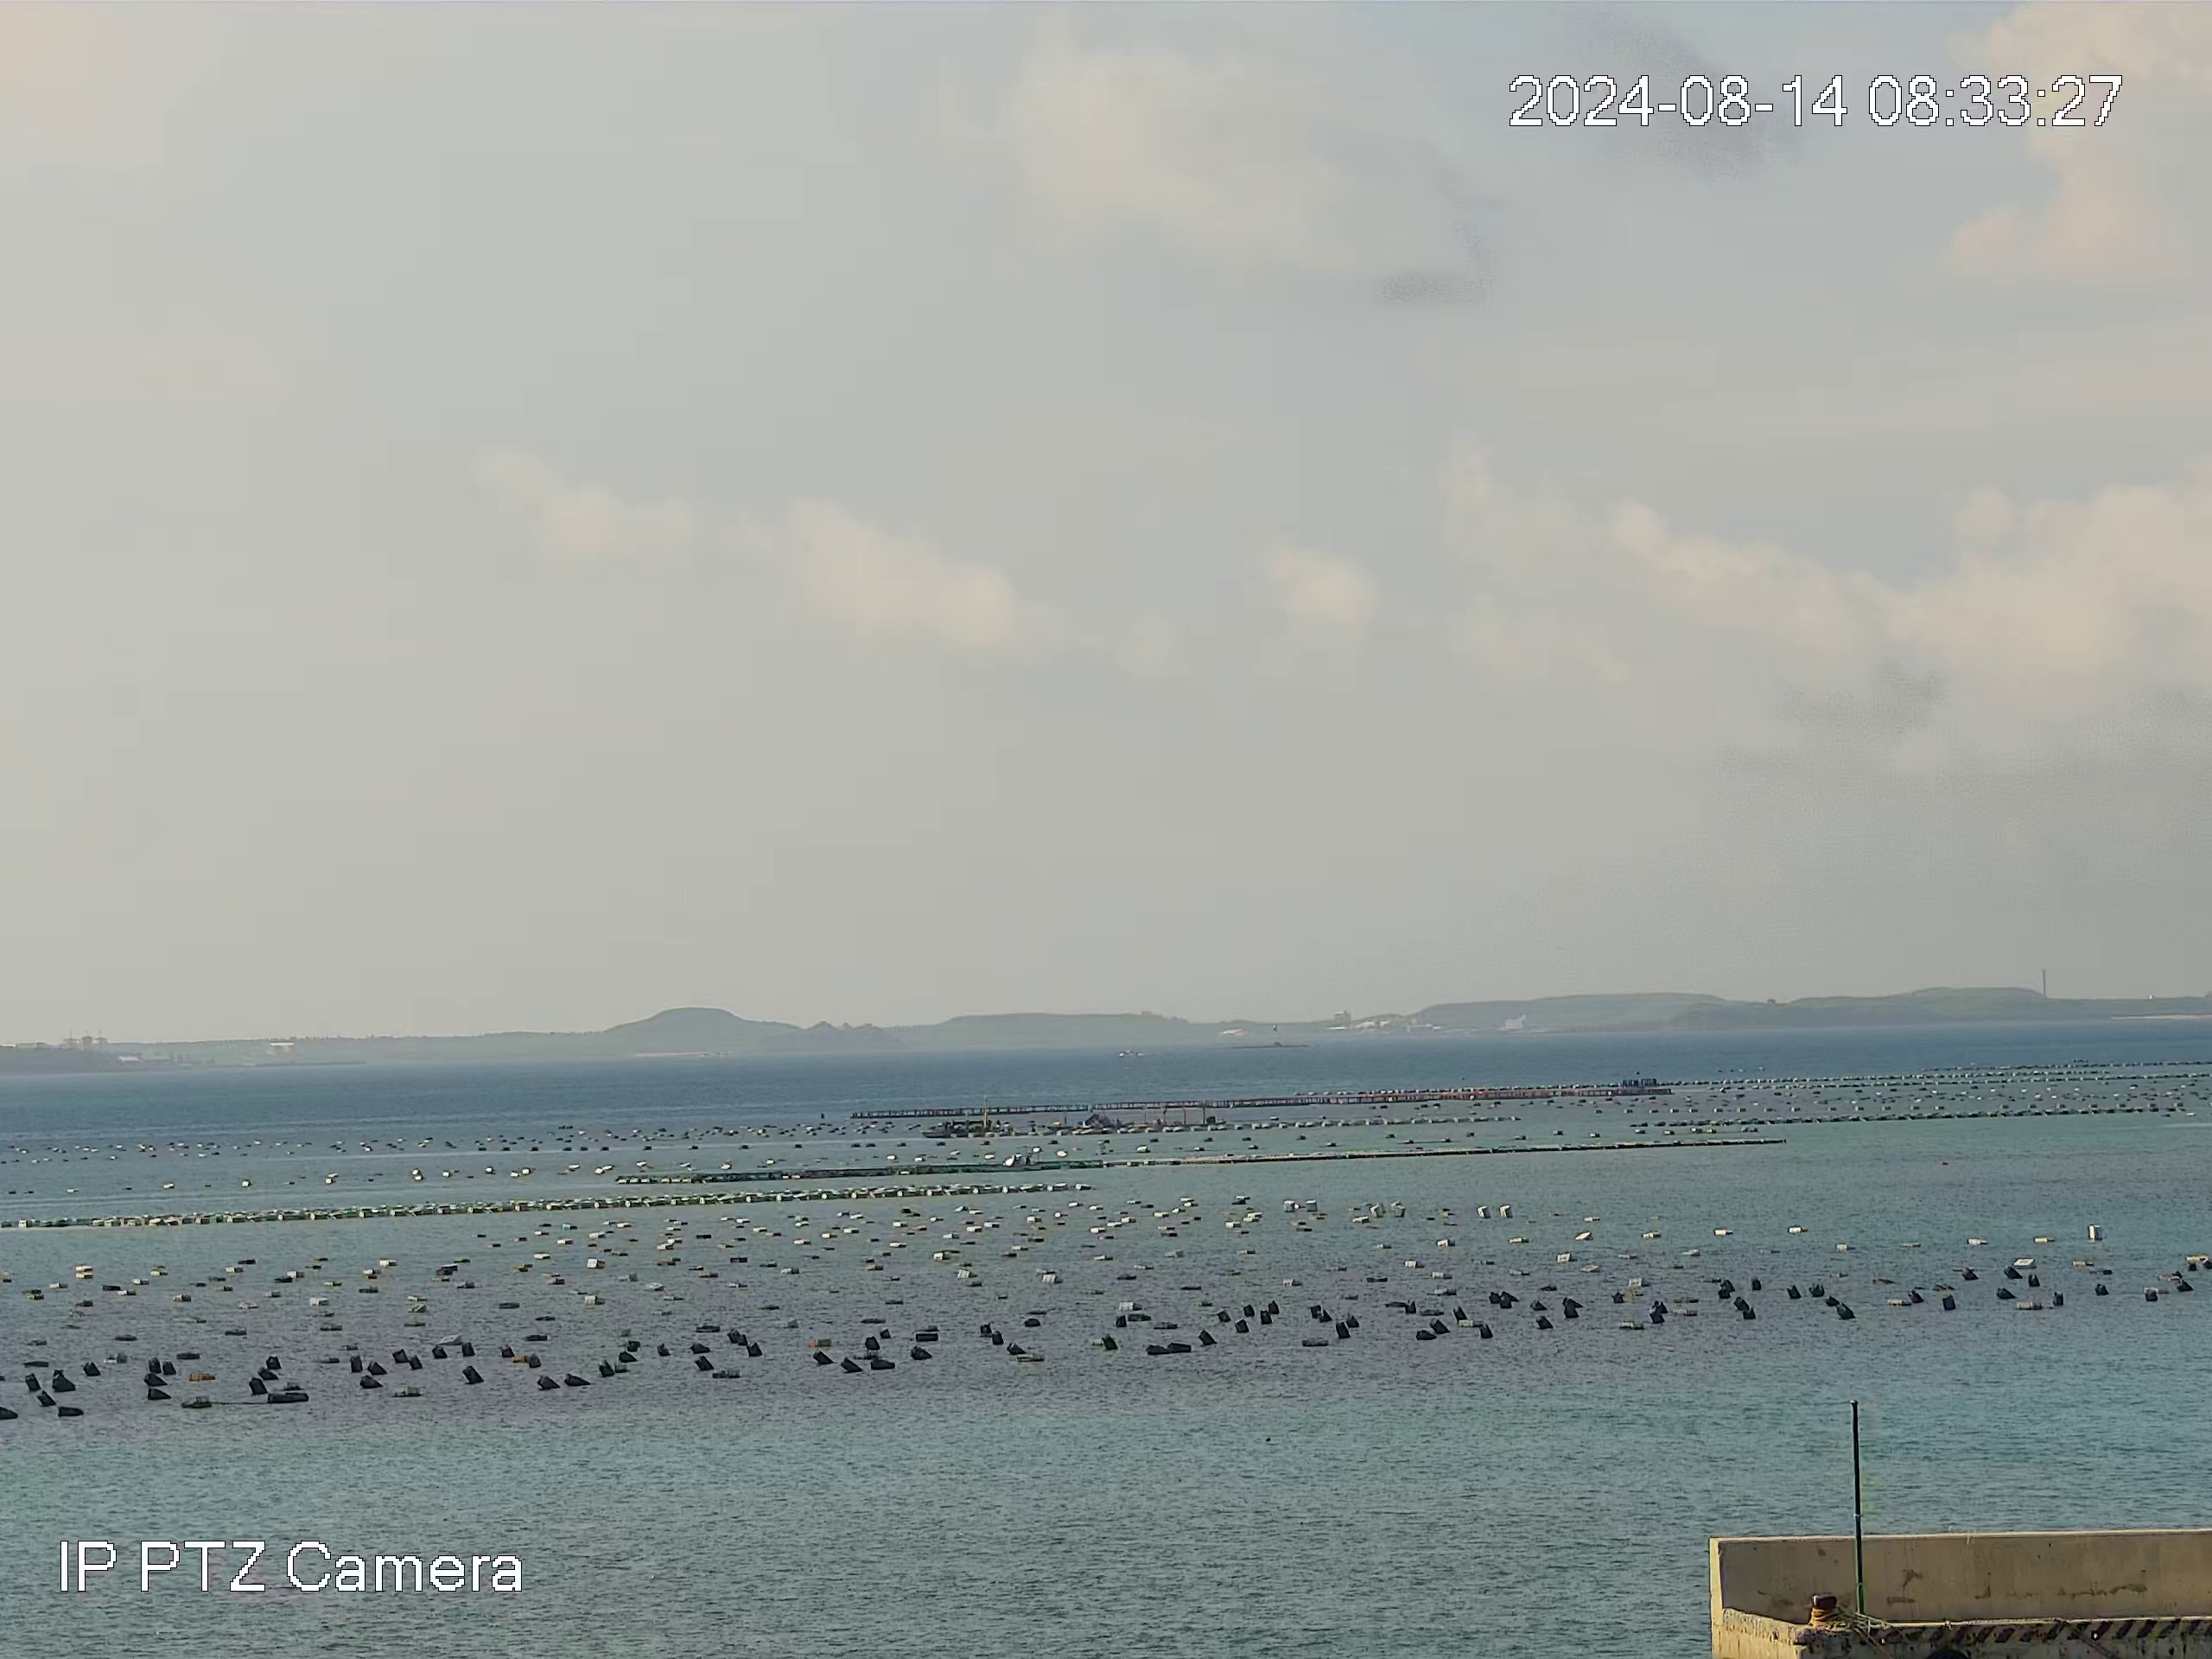boat: (921, 1117, 1000, 1140)
